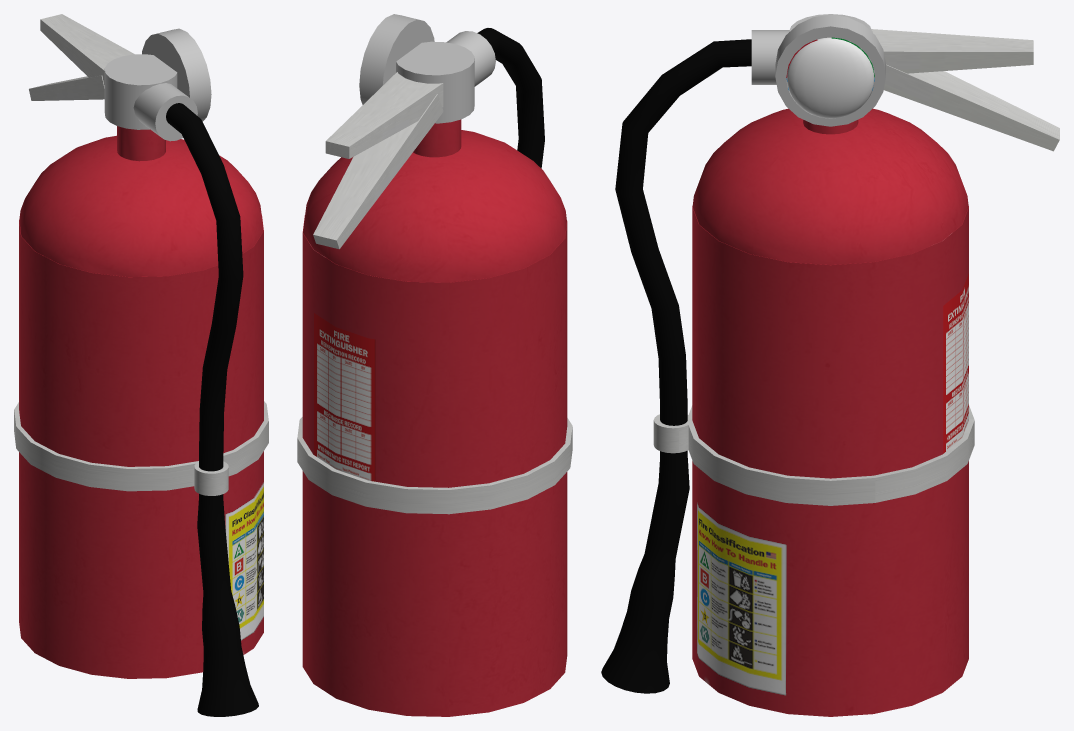
File: Extinguisher.fbx
The picture shows the model from 3 angles, left to right: view 1: azimuth 30°, elevation 25°; view 2: azimuth 150°, elevation 25°; view 3: azimuth 270°, elevation 25°; orthographic projection. The views are drawn at different scales.
Visible parts, largest first — view 1: Body, Hose, Bracket, pCylinder4, GuageHousing, pCube1, pCylinder5, pCube2, Clip; view 2: Body, Bracket, pCube2, pCube1, pCylinder4, Hose, GuageHousing, pCylinder5; view 3: Body, Hose, Bracket, pCube2, GuageLens, pCube1, GuageHousing, pCylinder5, Clip.
Boxes of the visible parts, x1,y1,x2,y2 form: Body: [19, 126, 263, 678]; Hose: [166, 103, 258, 716]; Bracket: [14, 401, 268, 491]; pCylinder4: [104, 54, 177, 129]; GuageHousing: [142, 28, 211, 121]; pCube1: [40, 14, 134, 86]; pCylinder5: [133, 83, 197, 141]; pCube2: [29, 75, 104, 100]; Clip: [194, 461, 228, 495]; Body: [302, 119, 567, 716]; Bracket: [297, 417, 572, 514]; pCube2: [313, 94, 443, 249]; pCube1: [325, 72, 443, 158]; pCylinder4: [396, 41, 474, 123]; Hose: [477, 28, 544, 168]; GuageHousing: [359, 14, 434, 104]; pCylinder5: [446, 31, 495, 86]; Body: [692, 108, 968, 716]; Hose: [601, 39, 751, 693]; Bracket: [687, 405, 974, 505]; pCube2: [883, 64, 1059, 151]; GuageLens: [786, 37, 874, 118]; pCube1: [871, 29, 1033, 73]; GuageHousing: [775, 14, 885, 126]; pCylinder5: [751, 30, 789, 84]; Clip: [653, 414, 692, 453].
Size of the model in its own units: 0.52 by 1.36 by 0.8282.
Materials: 6 (3 with a texture image).
